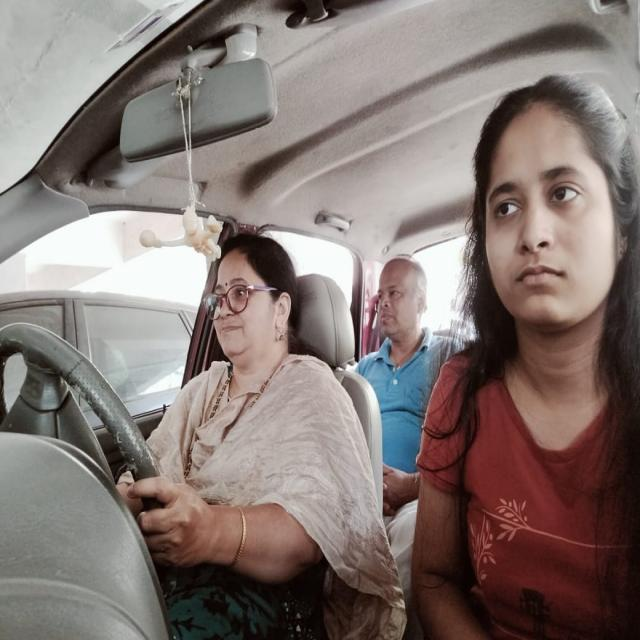person: (478, 105, 622, 312), (208, 253, 294, 360), (376, 253, 427, 334)
